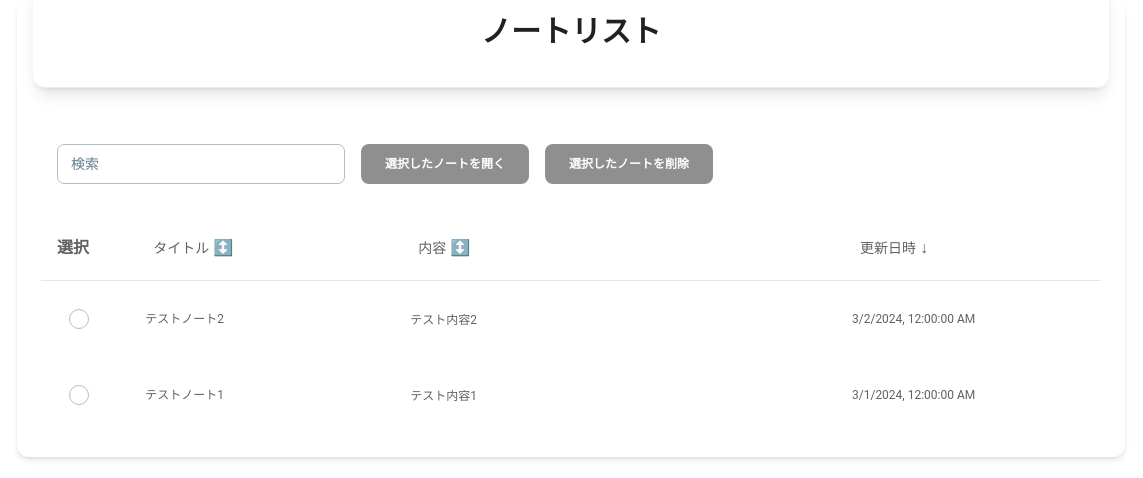
it: SelectNotesComponent › 検索機能が正しく動作すること
This screenshot has width=1143, height=478.
Expected: the text "テストノート1" is shown, [145,388,224,402]
In the search field: (201, 164) [57,144,345,184], type "テストノート2"
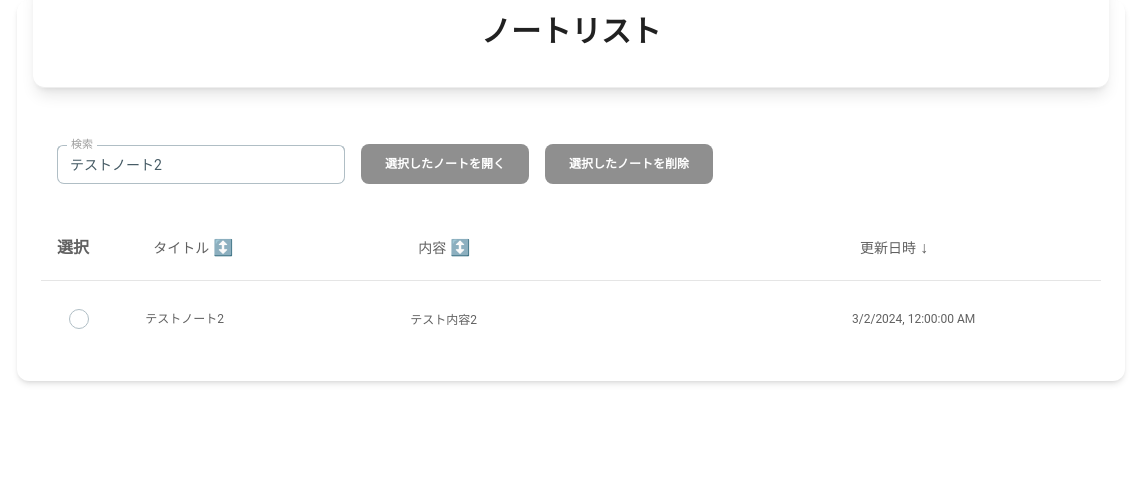
Expected: the text "テストノート2" is shown, [145,312,224,326]
Now the text "テストノート1" is gone
